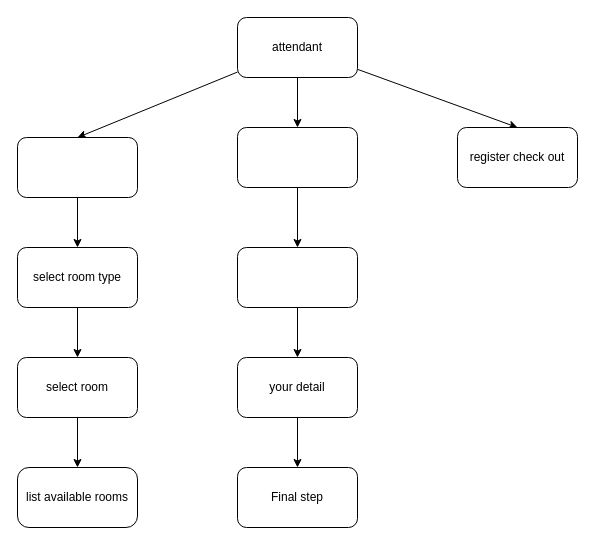
This 595x545 diagram has some shape labels left out. Each missing label, with the box of its shape:
make hotel resr.: (16, 136, 138, 198)
register check in: (236, 126, 358, 188)
select register: (236, 246, 358, 308)
